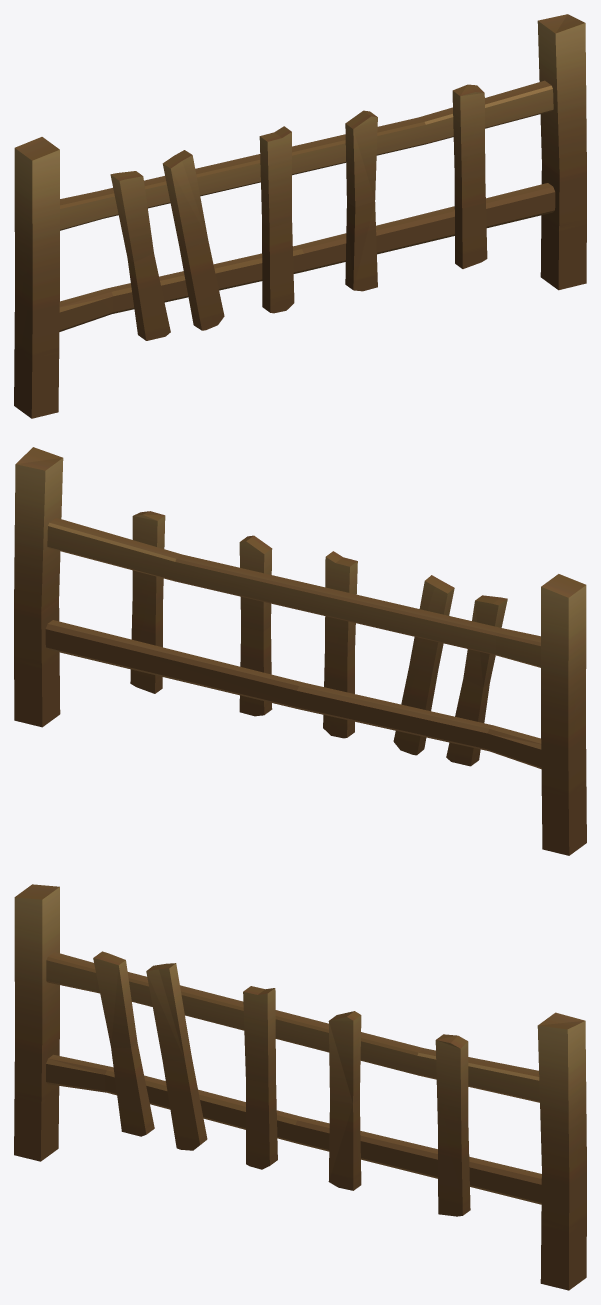
The model's file is pack04_fences_06.fbx.
3 renders of one model, top to bottom at view 1: azimuth 30°, elevation 25°; view 2: azimuth 150°, elevation 25°; view 3: azimuth 330°, elevation 25°, orthographic.
Parts seen in each view (by area): view 1: Big_Fence_14; view 2: Big_Fence_14; view 3: Big_Fence_14.
Boxes of the visible parts, x1,y1,x2,y2 form: Big_Fence_14: (14, 14, 586, 418); Big_Fence_14: (14, 447, 586, 855); Big_Fence_14: (14, 884, 586, 1290).
Bounding box in the file's own units: 134 × 60.42 × 9.22.
Materials: 1 (1 with a texture image).
